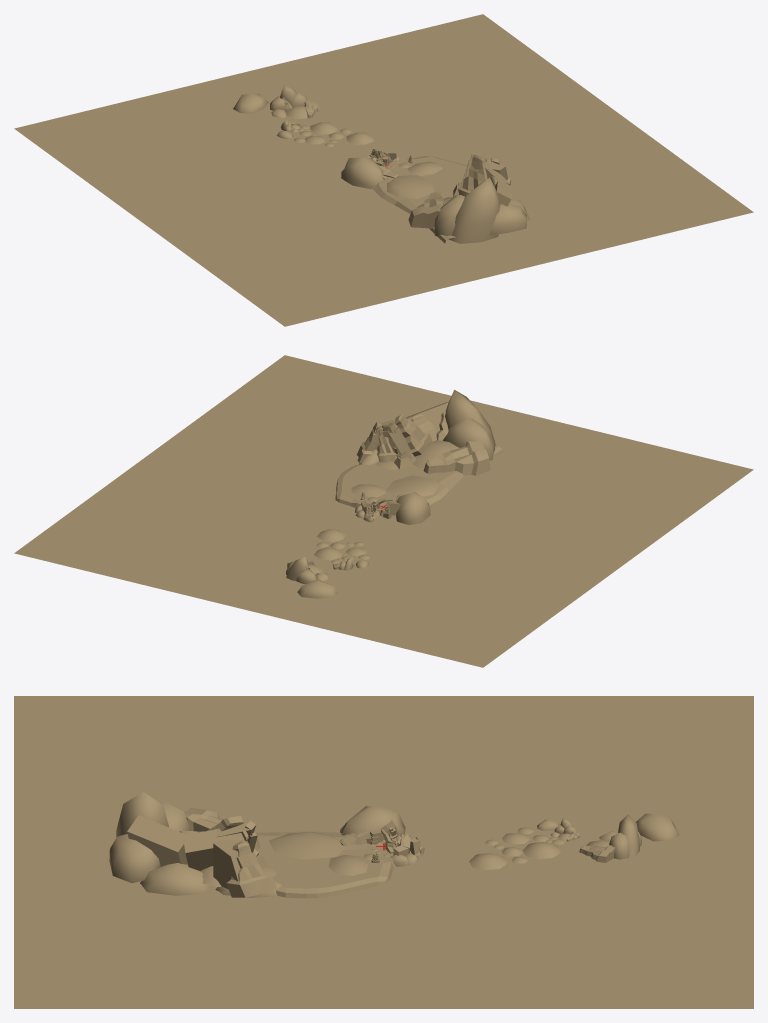
The model's file is Environment1.fbx.
3 renders of one model, top to bottom at view 1: azimuth 30°, elevation 25°; view 2: azimuth 150°, elevation 25°; view 3: azimuth 270°, elevation 25°, orthographic. The views are drawn at different scales.
Visible parts, largest first — view 1: pPlane2, pCube10, pCube31, pCube45, pCube23, pCube141, pCube162, pCube30, pCube144, pCube95; view 2: pPlane2, pCube10, pCube162, pCube30, pCube31, pCube45, pCube23, pCube144, pCube95, pCube19; view 3: pPlane2, pCube10, pCube52, pCube141, pCube33, pCube23, pCube50, pCube35, pCube45, pCube31, pCube38, pCube95 (+5 smaller).
Part boxes in pixels (left/top/right/bottom): pPlane2: left=14, top=14, right=753, bottom=326; pCube10: left=373, top=156, right=466, bottom=243; pCube31: left=449, top=177, right=500, bottom=243; pCube45: left=341, top=157, right=383, bottom=189; pCube23: left=386, top=175, right=434, bottom=198; pCube141: left=490, top=204, right=526, bottom=235; pCube162: left=408, top=192, right=443, bottom=228; pCube30: left=434, top=195, right=464, bottom=236; pCube144: left=458, top=155, right=487, bottom=196; pCube95: left=233, top=93, right=268, bottom=113; pPlane2: left=14, top=355, right=753, bottom=667; pCube10: left=335, top=445, right=503, bottom=517; pCube162: left=423, top=440, right=490, bottom=475; pCube30: left=442, top=418, right=494, bottom=460; pCube31: left=445, top=389, right=495, bottom=445; pCube45: left=396, top=492, right=430, bottom=524; pCube23: left=386, top=475, right=438, bottom=496; pCube144: left=394, top=415, right=432, bottom=456; pCube95: left=297, top=579, right=338, bottom=598; pCube19: left=413, top=440, right=458, bottom=468; pPlane2: left=14, top=696, right=753, bottom=1008; pCube10: left=255, top=831, right=396, bottom=898; pCube52: left=127, top=815, right=189, bottom=866; pCube141: left=109, top=834, right=160, bottom=883; pCube33: left=140, top=863, right=212, bottom=895; pCube23: left=269, top=832, right=344, bottom=859; pCube50: left=226, top=842, right=277, bottom=897; pCube35: left=183, top=829, right=244, bottom=870; pCube45: left=340, top=806, right=405, bottom=836; pCube31: left=116, top=792, right=168, bottom=837; pCube38: left=213, top=840, right=250, bottom=889; pCube95: left=636, top=813, right=679, bottom=841.
Bounding box in the file's own units: 3209 × 462 × 3209.
